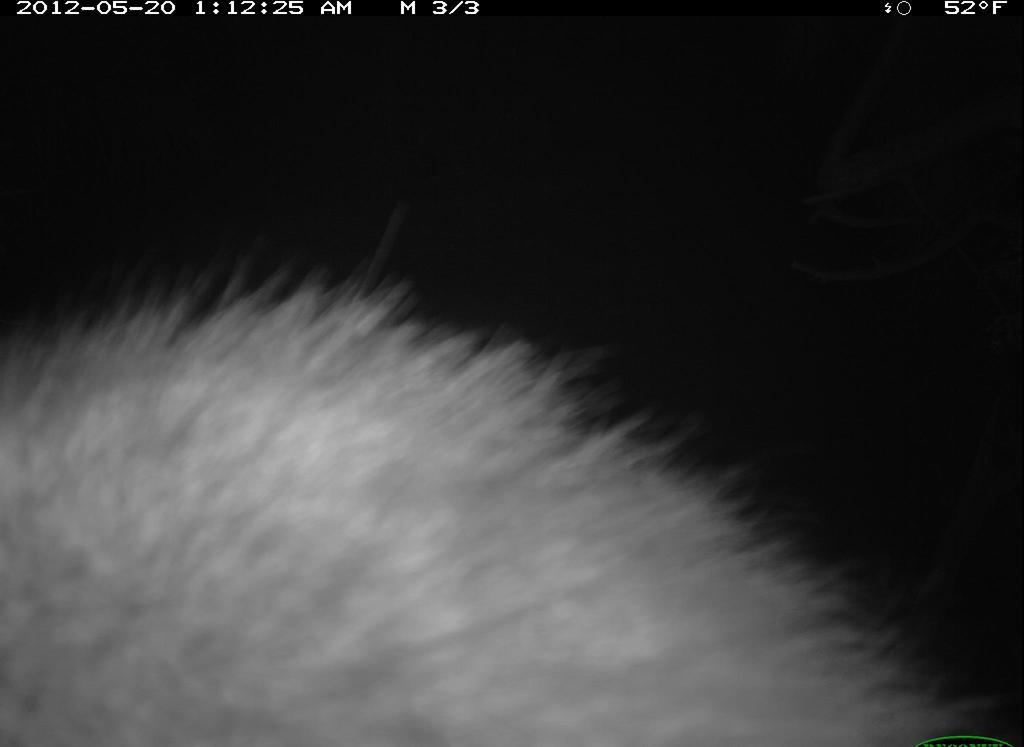raccoon: (6, 251, 1010, 745)
